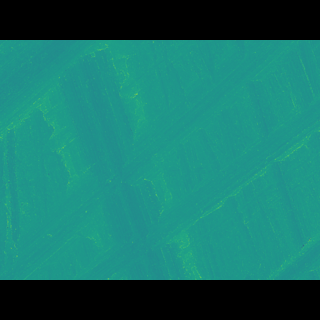Loch: (0, 70, 300, 250), (71, 110, 320, 250), (0, 70, 92, 141), (257, 214, 320, 250)
